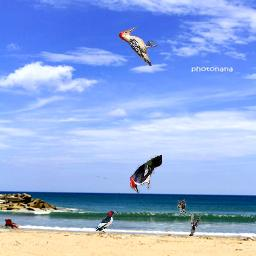Crow: (177, 199, 187, 213)
Swallow: (189, 212, 201, 236)
Woodpecker: (118, 27, 158, 66), (130, 154, 162, 194), (95, 210, 118, 231)
